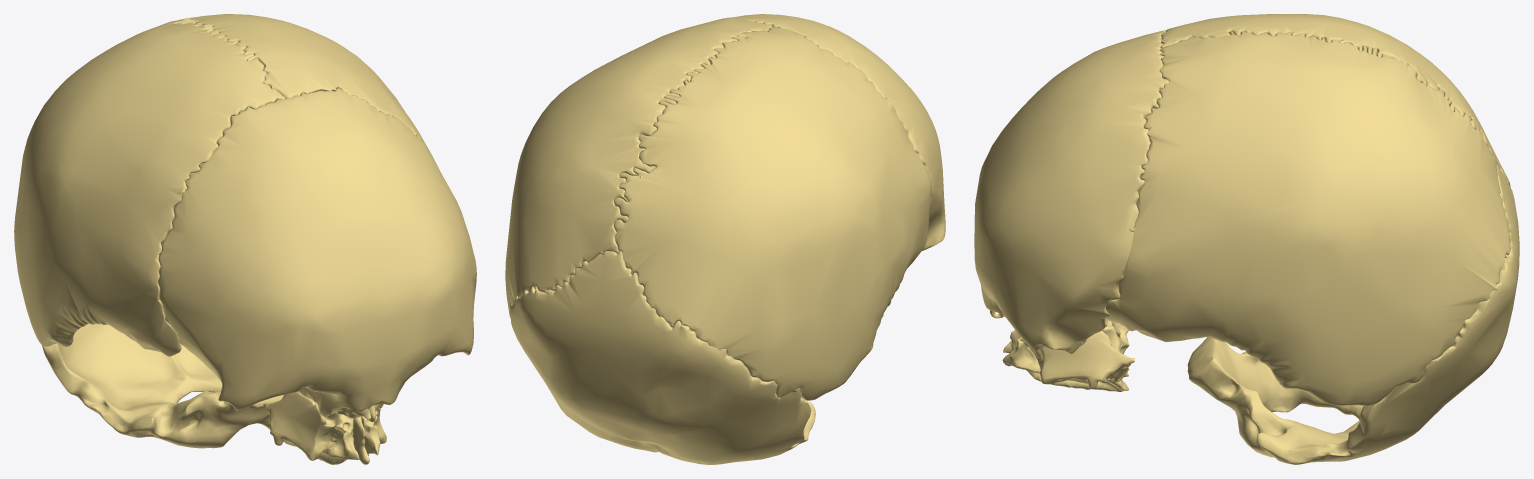
3 views of the same model, side by side, from view 1: azimuth 30°, elevation 25°; view 2: azimuth 150°, elevation 25°; view 3: azimuth 270°, elevation 25° (orthographic). The views are drawn at different scales.
Parts seen in each view (by area): view 1: head-neck:frontal-bone:isa:FJ3200, head-neck:parietal-bone:isa:FJ3380, head-neck:occiput:isa:FJ3309, head-neck:parietal-bone:isa:FJ3274, head-neck:ethmoid:isa:FJ3199; view 2: head-neck:parietal-bone:isa:FJ3380, head-neck:occiput:isa:FJ3309, head-neck:parietal-bone:isa:FJ3274, head-neck:frontal-bone:isa:FJ3200; view 3: head-neck:parietal-bone:isa:FJ3274, head-neck:frontal-bone:isa:FJ3200, head-neck:occiput:isa:FJ3309, head-neck:parietal-bone:isa:FJ3380, head-neck:ethmoid:isa:FJ3199.
Part boxes in pixels (box(x1,y1,x2,y2)): head-neck:frontal-bone:isa:FJ3200: box(158, 88, 476, 422); head-neck:parietal-bone:isa:FJ3380: box(14, 19, 285, 356); head-neck:occiput:isa:FJ3309: box(42, 323, 283, 448); head-neck:parietal-bone:isa:FJ3274: box(173, 14, 439, 169); head-neck:ethmoid:isa:FJ3199: box(263, 391, 386, 464); head-neck:parietal-bone:isa:FJ3380: box(614, 26, 931, 400); head-neck:occiput:isa:FJ3309: box(509, 251, 815, 464); head-neck:parietal-bone:isa:FJ3274: box(505, 17, 772, 317); head-neck:frontal-bone:isa:FJ3200: box(734, 14, 945, 250); head-neck:parietal-bone:isa:FJ3274: box(1105, 31, 1510, 405); head-neck:frontal-bone:isa:FJ3200: box(974, 30, 1168, 353); head-neck:occiput:isa:FJ3309: box(1187, 163, 1519, 464); head-neck:parietal-bone:isa:FJ3380: box(1160, 14, 1510, 186); head-neck:ethmoid:isa:FJ3199: box(1002, 320, 1134, 391).
Size of the model in its own units: 0.151 by 0.1585 by 0.1954.
